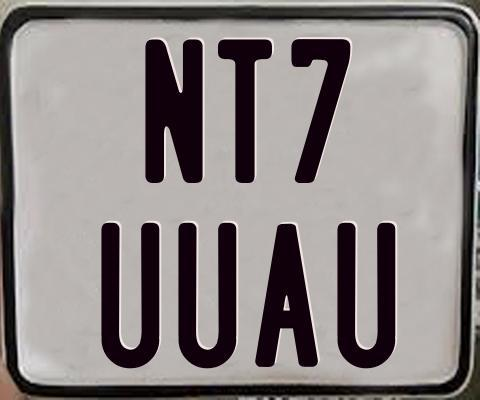7: (291, 38, 353, 185)
A: (253, 224, 317, 372)
N: (144, 38, 203, 186)
T: (217, 38, 275, 186)
U: (175, 222, 239, 371), (98, 221, 162, 369), (335, 220, 398, 369)
